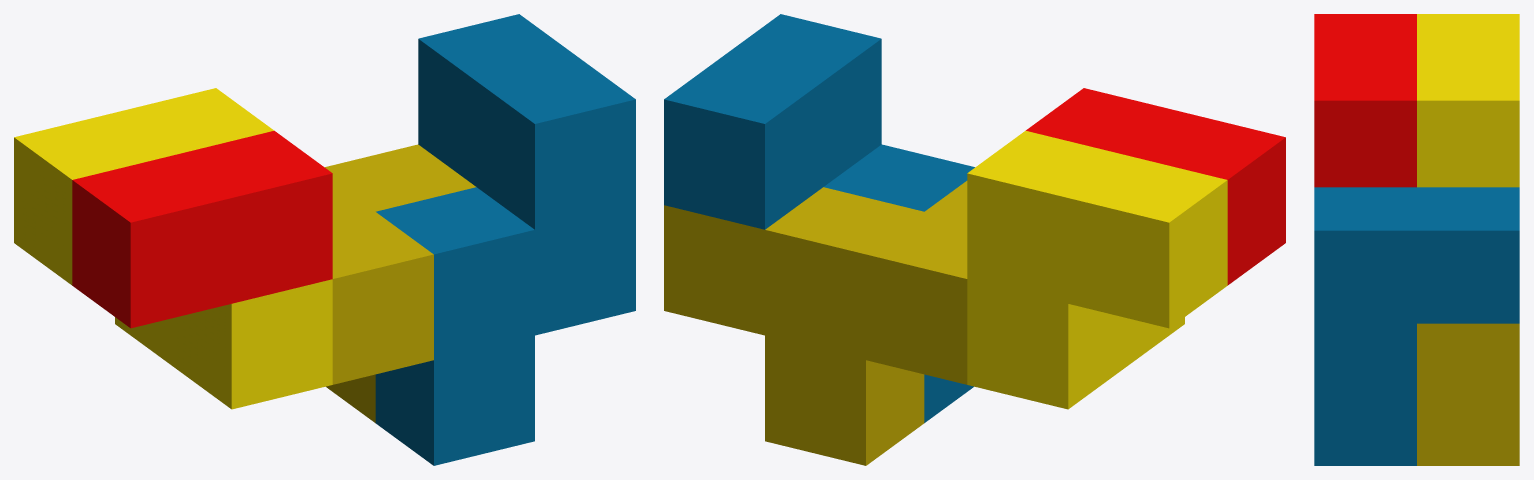
The picture shows the model from 3 angles, left to right: view 1: azimuth 30°, elevation 25°; view 2: azimuth 150°, elevation 25°; view 3: azimuth 270°, elevation 25°; orthographic projection. The views are drawn at different scales.
Visible parts, largest first — view 1: mergedBlocks(Clone); view 2: mergedBlocks(Clone); view 3: mergedBlocks(Clone).
Boxes of the visible parts, x1=… form: mergedBlocks(Clone): x1=14, y1=14, x2=635, y2=465; mergedBlocks(Clone): x1=664, y1=14, x2=1285, y2=465; mergedBlocks(Clone): x1=1314, y1=14, x2=1519, y2=465.
Size of the model in its own units: 5 by 3 by 2.
Materials: 4 (4 with a texture image).
